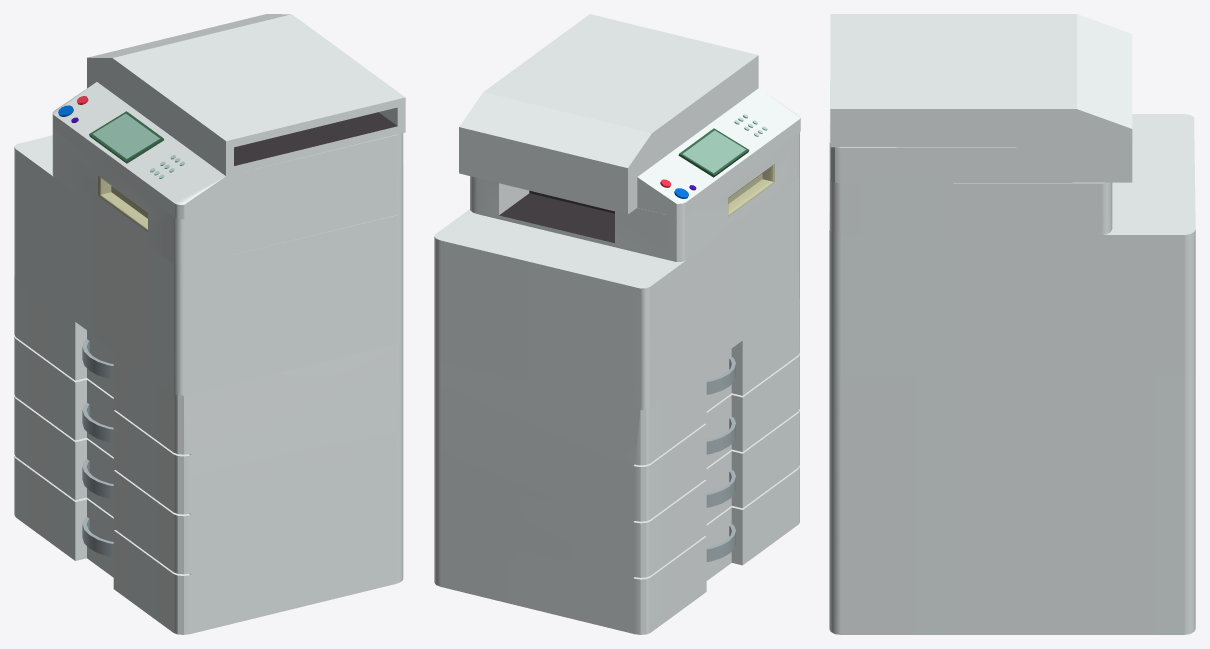
Rendered from makine1.fbx.
3 views of the same model, side by side, from view 1: azimuth 30°, elevation 25°; view 2: azimuth 150°, elevation 25°; view 3: azimuth 270°, elevation 25° (orthographic). The views are drawn at different scales.
Visible parts, largest first — view 1: makine_1; view 2: makine_1; view 3: makine_1.
Boxes of the visible parts, box(x1,y1,x2,y2) form: makine_1: box(14, 14, 405, 634); makine_1: box(434, 14, 800, 634); makine_1: box(829, 14, 1195, 634).
Bounding box in the file's own units: 80.32 × 159 × 101.
